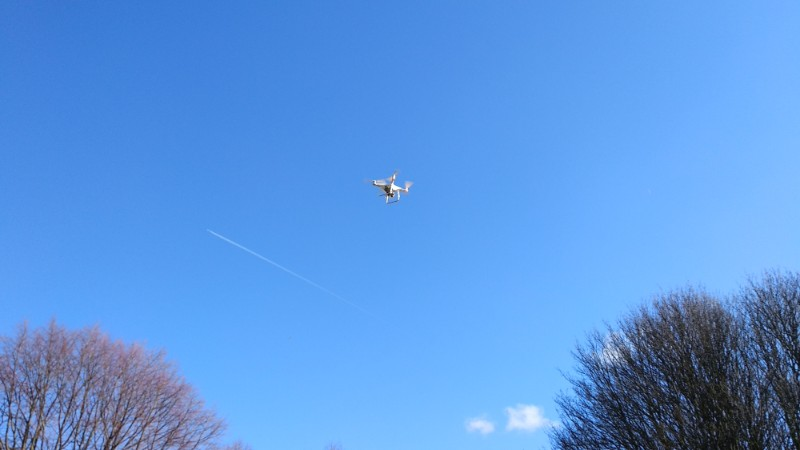drone: (367, 169, 415, 205)
